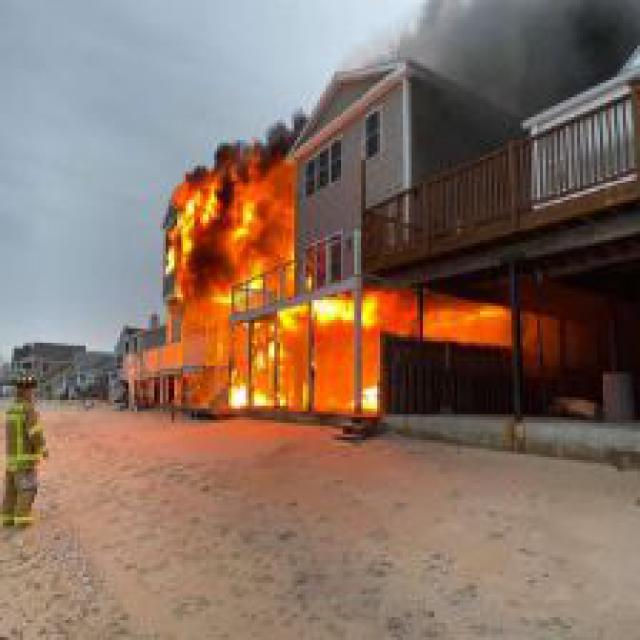fire: (154, 146, 383, 417), (300, 291, 514, 346)
